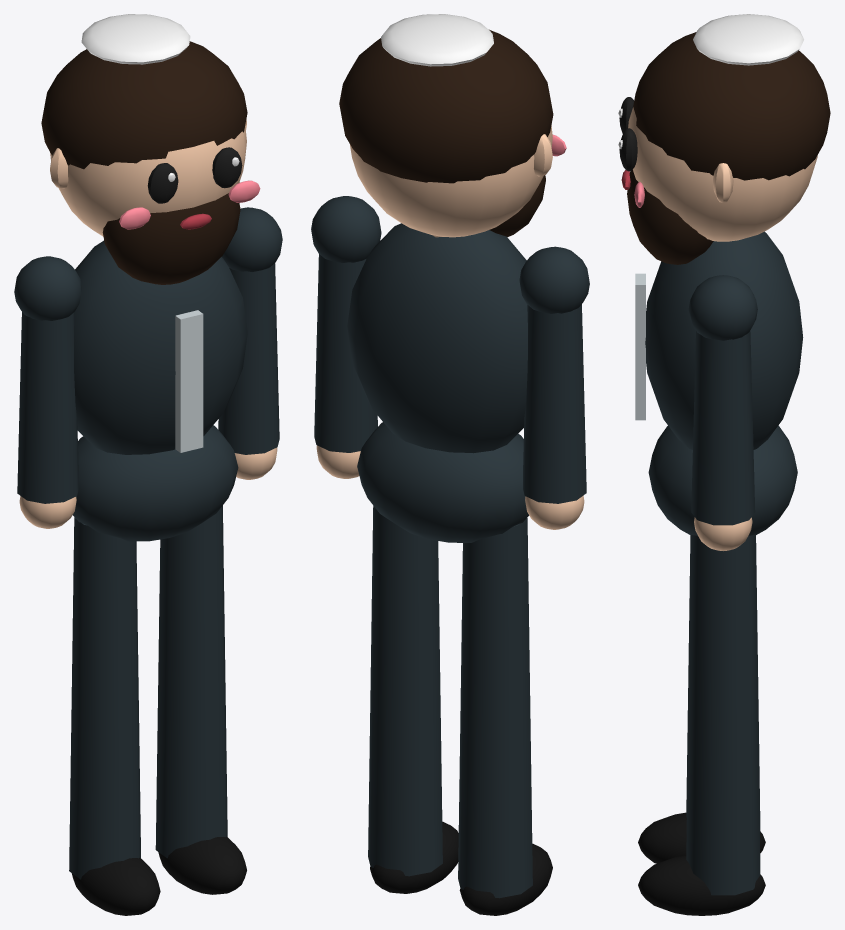
File: hustle_groom.glb
3 views of the same model, side by side, from view 1: azimuth 30°, elevation 25°; view 2: azimuth 150°, elevation 25°; view 3: azimuth 270°, elevation 25° (orthographic). The views are drawn at different scales.
Visible parts, largest first — view 1: Body, Leg_R, Leg_L, Arm_R, Arm_L; view 2: Body, Leg_R, Leg_L, Arm_R, Arm_L; view 3: Body, Leg_L, Arm_L, Leg_R.
Boxes of the visible parts, <box> form: Body: <box>41,14,260,541</box>; Leg_R: <box>69,517,160,915</box>; Leg_L: <box>155,505,246,894</box>; Arm_R: <box>14,256,81,528</box>; Arm_L: <box>218,207,282,479</box>; Body: <box>339,14,566,542</box>; Leg_R: <box>458,518,552,915</box>; Leg_L: <box>368,506,458,893</box>; Arm_R: <box>519,246,589,529</box>; Arm_L: <box>311,196,381,478</box>; Body: <box>618,14,830,535</box>; Leg_L: <box>638,535,765,915</box>; Arm_L: <box>688,275,757,550</box>; Leg_R: <box>638,535,765,863</box>.
Bounding box in the file's own units: 0.57 × 1.78 × 0.3981.
